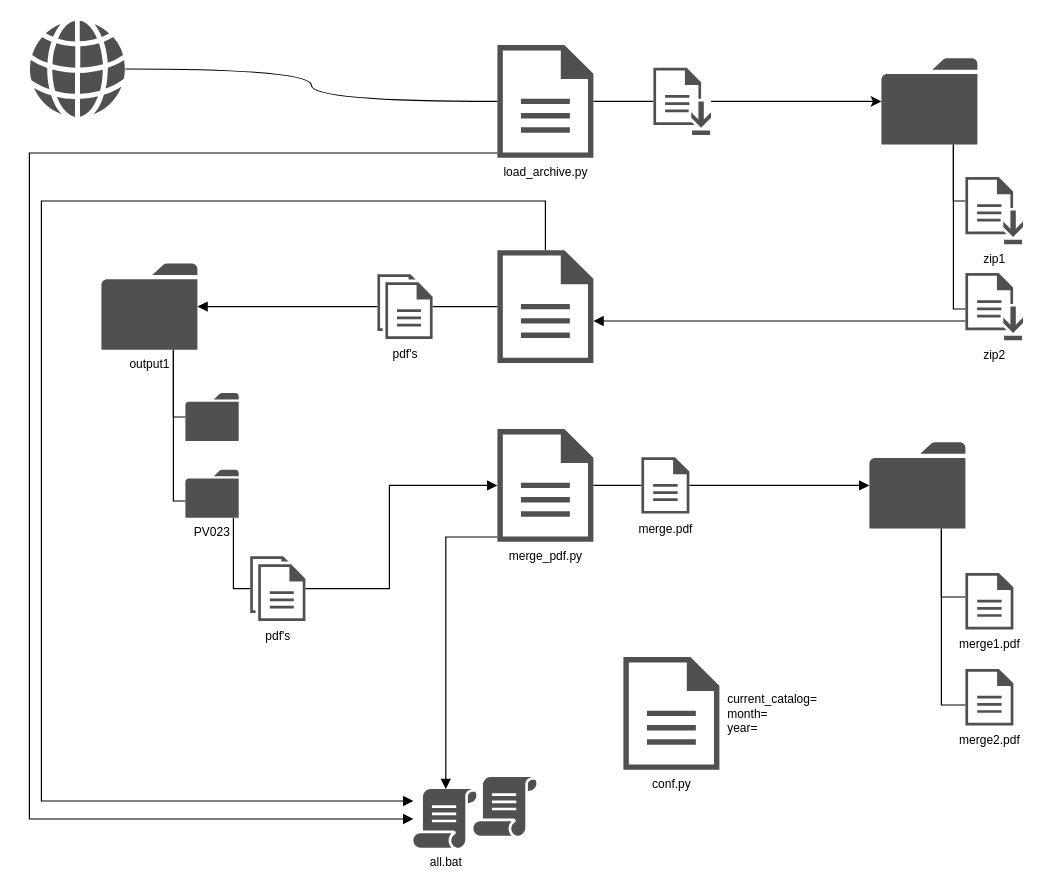
The diagram is 1044 pixels wide and 890 high, and some of its shapes have lost their labels. Each missing label, with the box of its shape:
./temp: (881, 58, 977, 144)
all.sh: (473, 776, 536, 835)
beeline: (29, 20, 125, 116)
extr_archive.py: (497, 250, 593, 362)
output2: (869, 442, 965, 528)
PV022: (185, 392, 238, 440)
zip archive: (653, 67, 710, 134)
